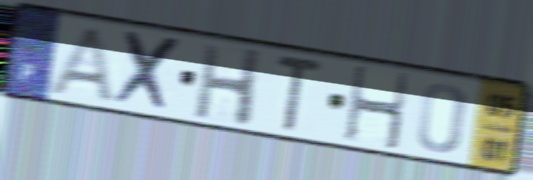0: (414, 81, 470, 156)
A: (44, 26, 119, 107)
H: (191, 41, 265, 130), (342, 63, 412, 153)
T: (273, 51, 326, 134)
X: (111, 28, 186, 116)
